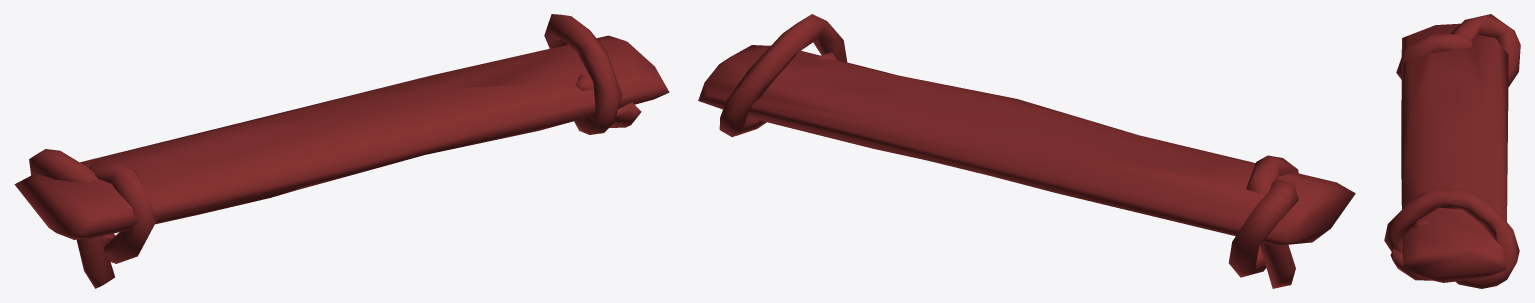
The model's file is SM_step_plank_rope_01.fbx.
3 views of the same model, side by side, from view 1: azimuth 30°, elevation 25°; view 2: azimuth 150°, elevation 25°; view 3: azimuth 270°, elevation 25° (orthographic). The views are drawn at different scales.
Visible parts, largest first — view 1: step_plank_rope_01; view 2: step_plank_rope_01; view 3: step_plank_rope_01.
Part boxes in pixels (<box>): step_plank_rope_01: <box>14,14,669,288</box>; step_plank_rope_01: <box>698,14,1355,288</box>; step_plank_rope_01: <box>1384,14,1520,288</box>.
Size of the model in its own units: 138 by 33.64 by 34.67.
